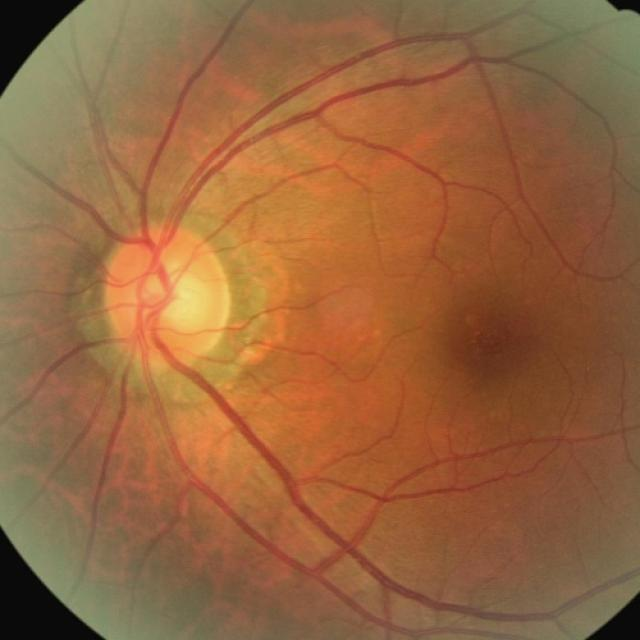OC: (138, 261, 205, 330)
OD: (102, 224, 229, 368)
